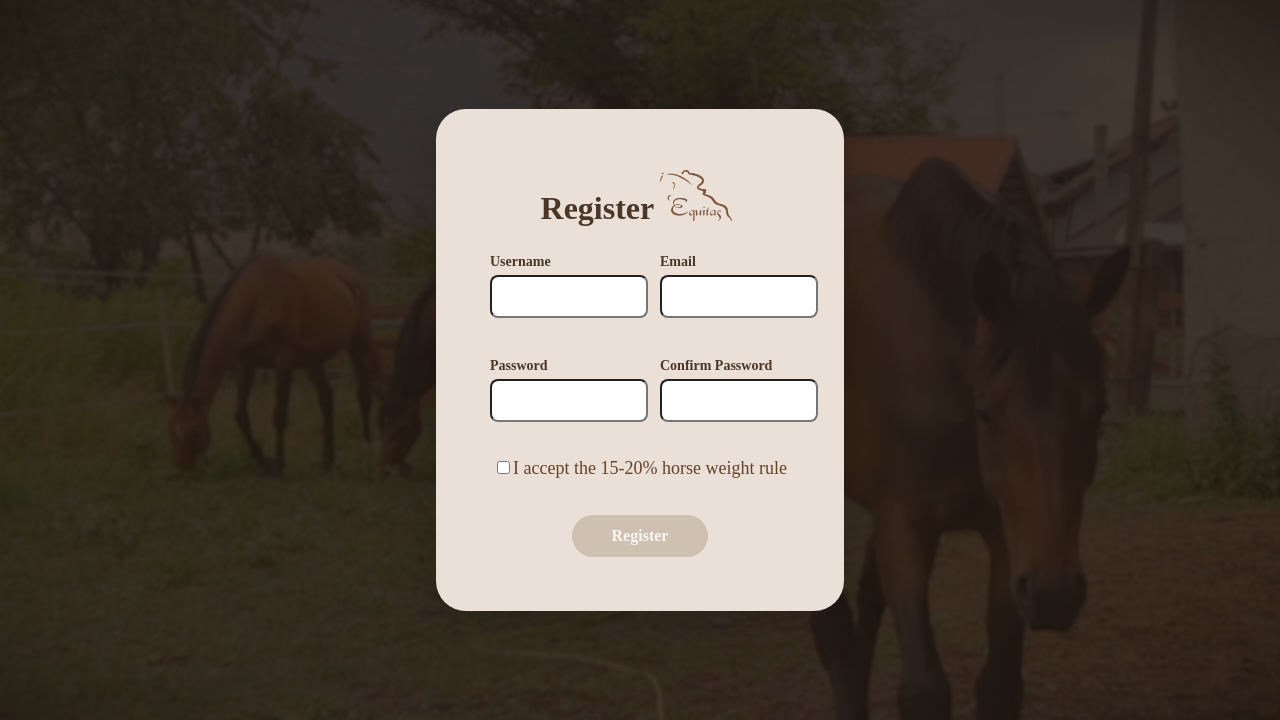
RegisterForm › shows "fill in all fields" error when submitting empty form with disclaimer checked
Click the checkbox at (504, 467), box [497,461,510,474]
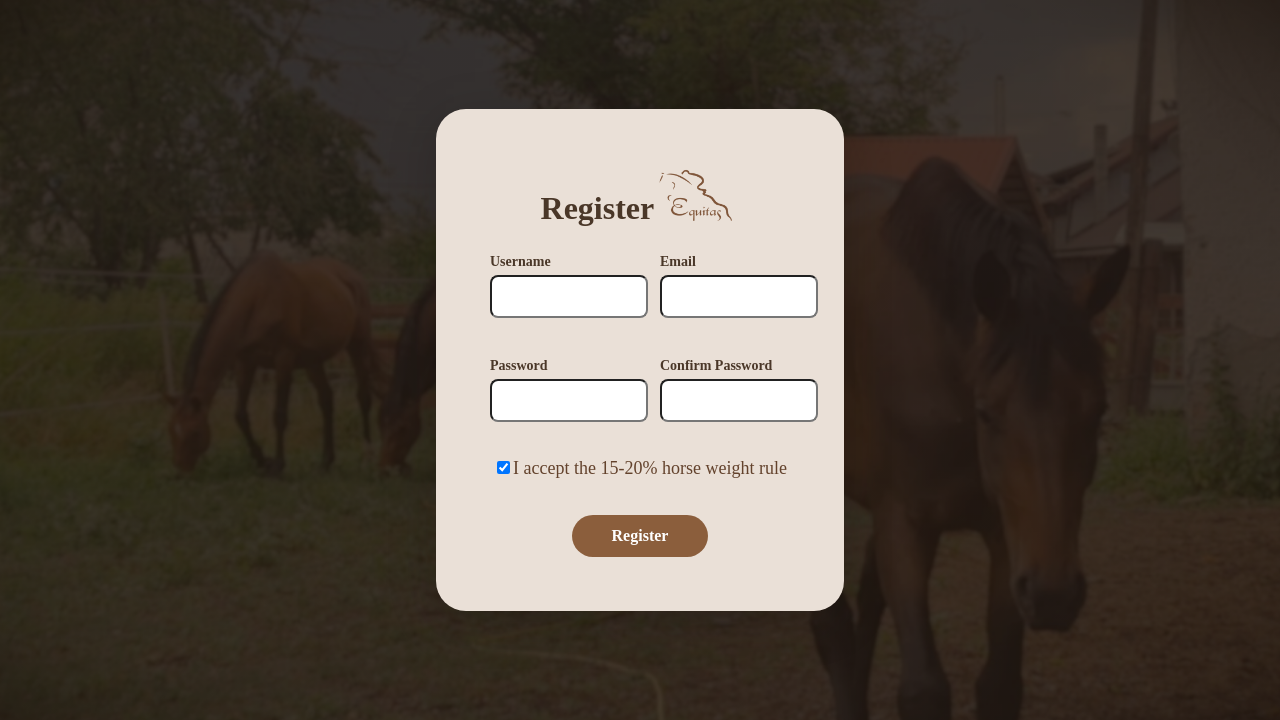
Click the button "Register" at (640, 536), box [572,515,708,557]
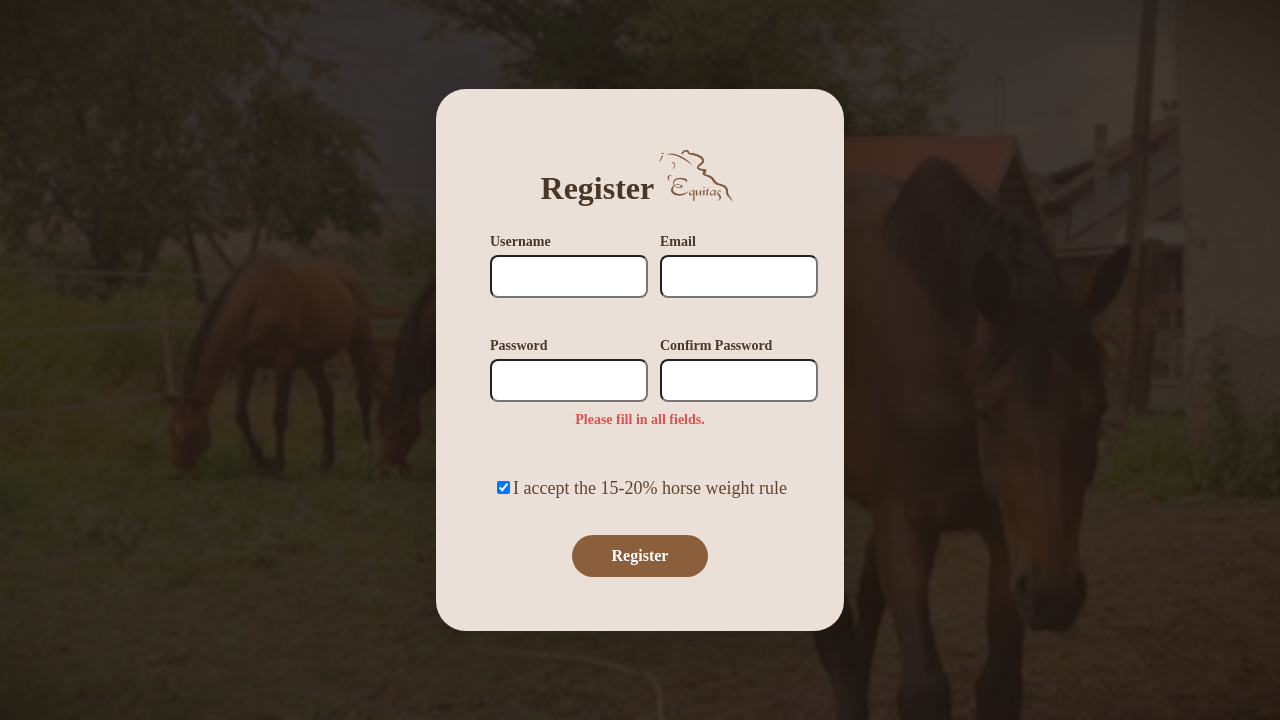
Result: the text "Please fill in all fields." is shown at [575,412,705,428]
